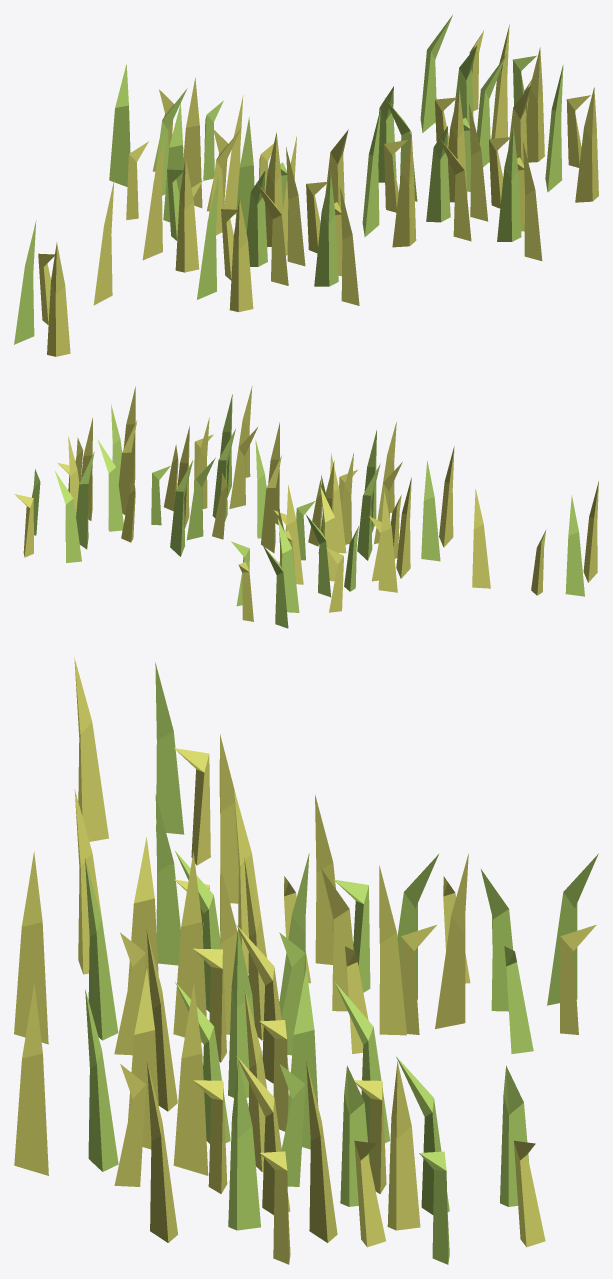
File: yellowshortgrass.fbx
The picture shows the model from 3 angles, top to bottom: view 1: azimuth 30°, elevation 25°; view 2: azimuth 150°, elevation 25°; view 3: azimuth 270°, elevation 25°; orthographic projection. The views are drawn at different scales.
Parts seen in each view (by area): view 1: pCylinder126; view 2: pCylinder126; view 3: pCylinder126.
Boxes of the visible parts, <box> form: pCylinder126: <box>14,15,598,356</box>; pCylinder126: <box>14,386,598,628</box>; pCylinder126: <box>14,657,598,1264</box>.
Bounding box in the file's own units: 18.22 × 3.49 × 10.22.
